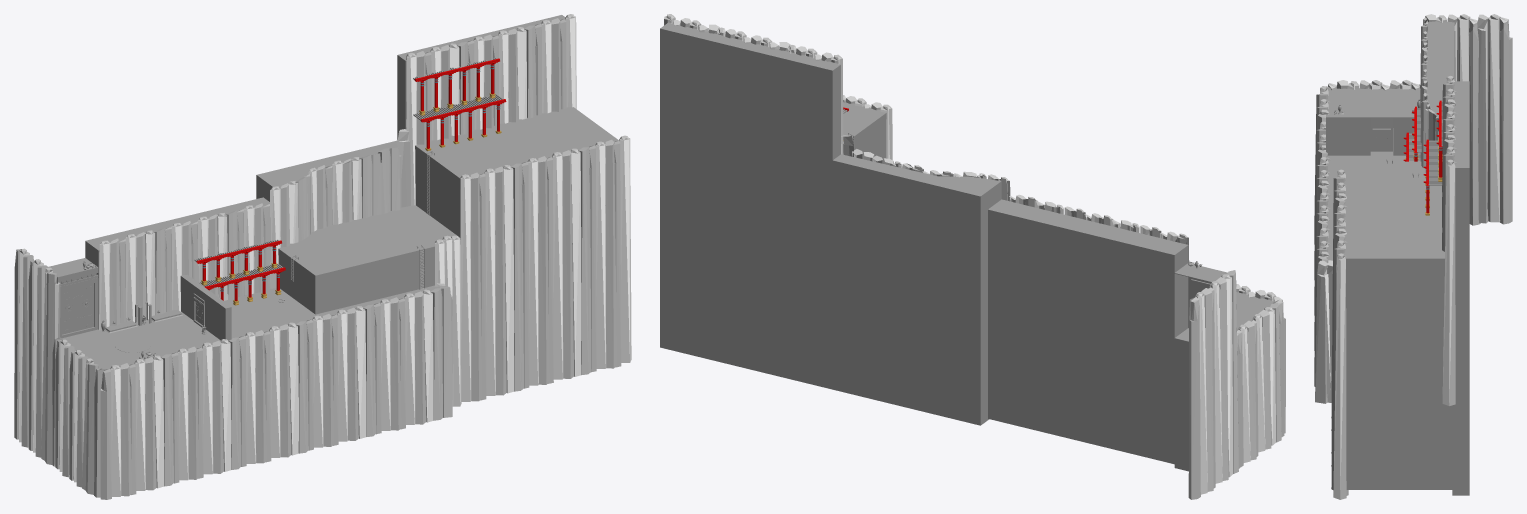
The model's file is Escenarios.fbx.
3 renders of one model, left to right at view 1: azimuth 30°, elevation 25°; view 2: azimuth 150°, elevation 25°; view 3: azimuth 270°, elevation 25°, orthographic. The views are drawn at different scales.
Parts seen in each view (by area): view 1: polySurface338, polySurface343, polySurface342, polySurface340, polySurface344, puerta2, pasted__suelo3Shape, polySurface341, polySurface63, polySurface62, polySurface58, polySurface57; view 2: polySurface344, polySurface341, polySurface338, polySurface340, polySurface342; view 3: polySurface342, polySurface338, polySurface344, polySurface340, pasted__suelo3Shape, polySurface341, polySurface343, polySurface63, puerta1, polySurface57, polySurface62, polySurface58 (+1 smaller).
Boxes of the visible parts, x1,y1,x2,y2 form: polySurface338: [14, 14, 631, 499]; polySurface343: [278, 205, 460, 314]; polySurface342: [415, 107, 618, 237]; polySurface340: [62, 285, 439, 369]; polySurface344: [256, 15, 565, 227]; puerta2: [58, 268, 98, 337]; pasted__suelo3Shape: [180, 274, 231, 340]; polySurface341: [85, 197, 269, 329]; polySurface63: [413, 94, 506, 151]; polySurface62: [413, 58, 499, 115]; polySurface58: [198, 264, 285, 305]; polySurface57: [194, 239, 281, 285]; polySurface344: [660, 22, 1001, 425]; polySurface341: [988, 199, 1188, 464]; polySurface338: [664, 14, 1285, 499]; polySurface340: [1174, 292, 1274, 471]; polySurface342: [843, 102, 886, 160]; polySurface342: [1342, 175, 1452, 489]; polySurface338: [1314, 14, 1512, 499]; polySurface344: [1426, 81, 1469, 495]; polySurface340: [1326, 88, 1420, 273]; pasted__suelo3Shape: [1326, 114, 1414, 155]; polySurface341: [1426, 24, 1454, 99]; polySurface343: [1342, 161, 1425, 175]; polySurface63: [1423, 139, 1442, 215]; puerta1: [1370, 128, 1392, 151]; polySurface57: [1412, 106, 1421, 161]; polySurface62: [1436, 100, 1442, 181]; polySurface58: [1403, 132, 1420, 161].
Size of the model in its own units: 13224 by 7295 by 3880.
